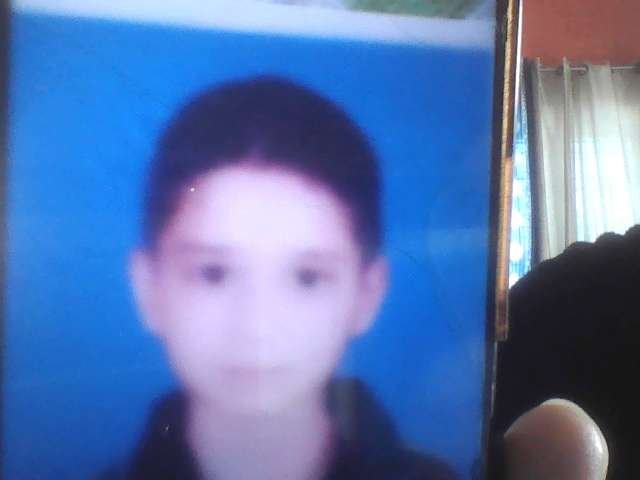fake: (142, 92, 391, 445)
